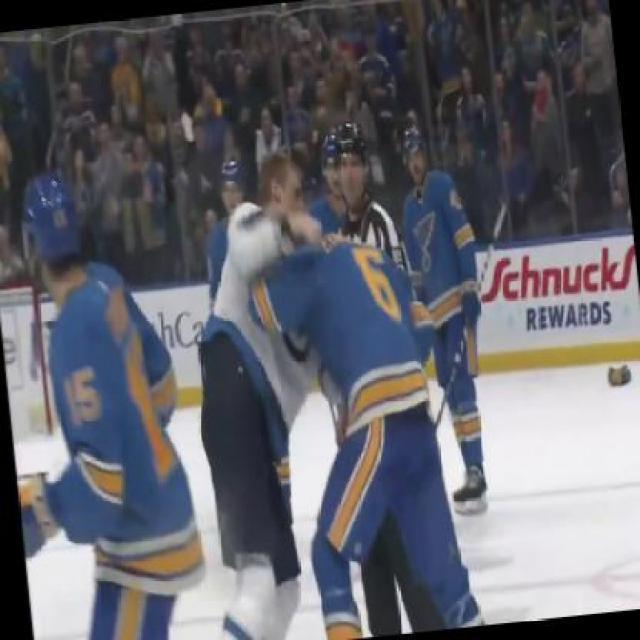fight: (182, 140, 452, 557)
non-fight: (10, 160, 208, 614), (397, 127, 503, 507)
